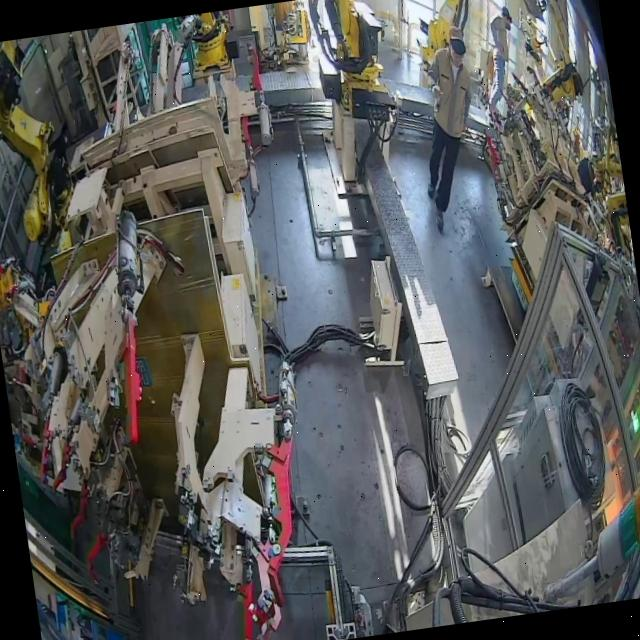Person: (407, 24, 492, 235), (477, 5, 524, 109), (245, 585, 282, 640), (246, 40, 266, 106)
